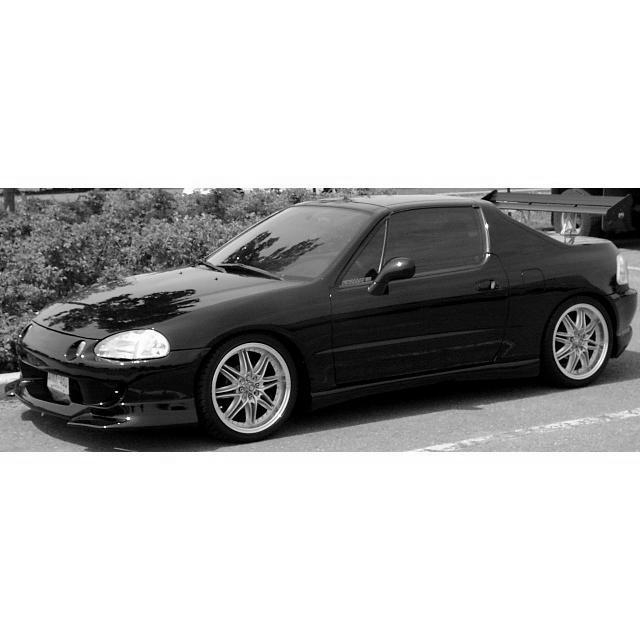Runningboard-Damage: (305, 353, 542, 388)
